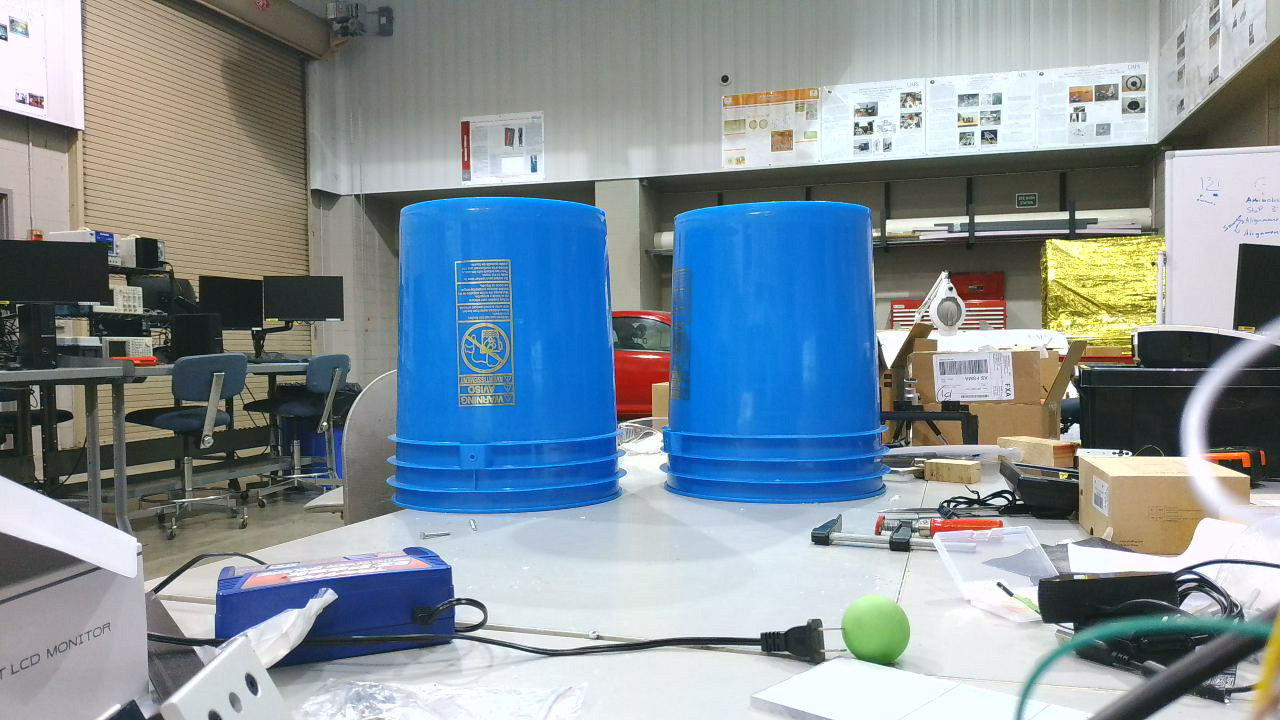blue_bucket: (387, 196, 634, 523), (662, 201, 900, 516)
